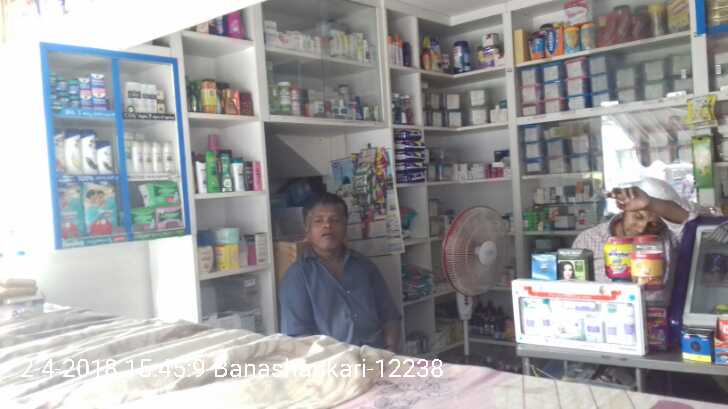vicks: (48, 71, 109, 115)
